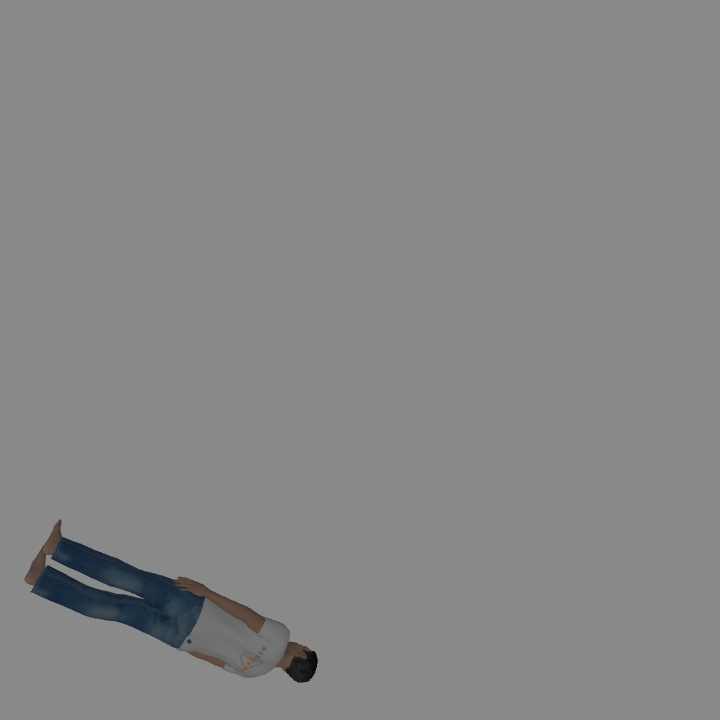victim: (27, 521, 319, 681)
